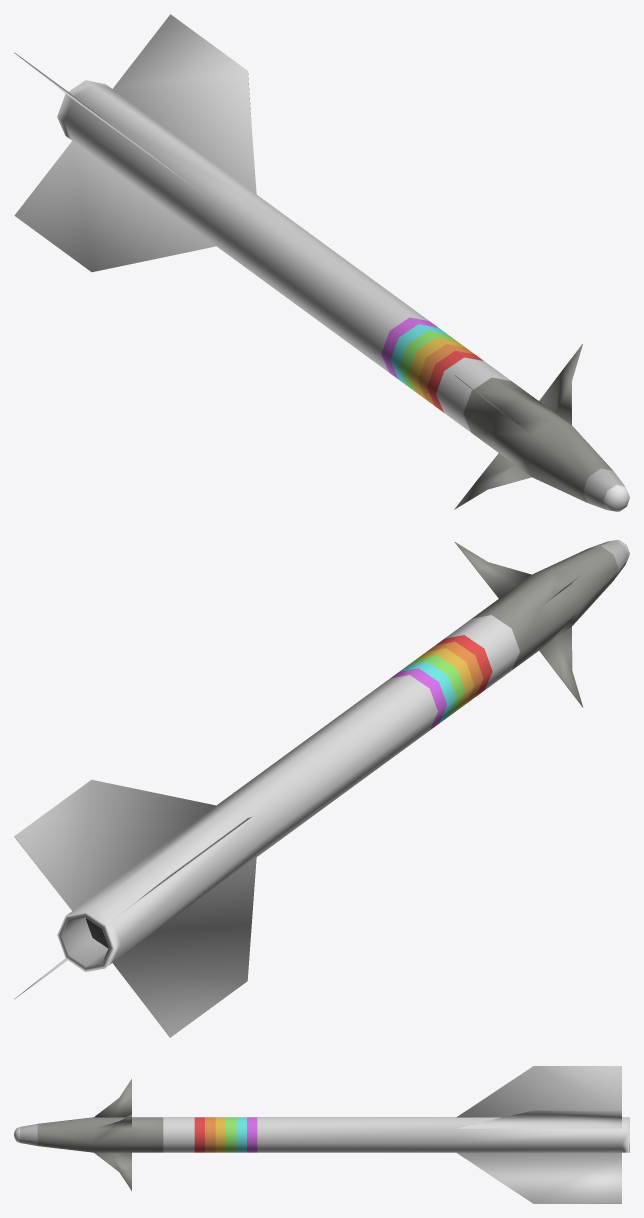
Rendered from grrrrrr.fbx.
3 renders of one model, top to bottom at view 1: azimuth 30°, elevation 25°; view 2: azimuth 150°, elevation 25°; view 3: azimuth 270°, elevation 25°, orthographic. The views are drawn at different scales.
Visible parts, largest first — view 1: Body; view 2: Body; view 3: Body.
Boxes of the visible parts, <box> form: Body: <box>14,14,629,511</box>; Body: <box>14,540,629,1037</box>; Body: <box>14,1066,629,1203</box>.
Bounding box in the file's own units: 331 × 331 × 1961.
